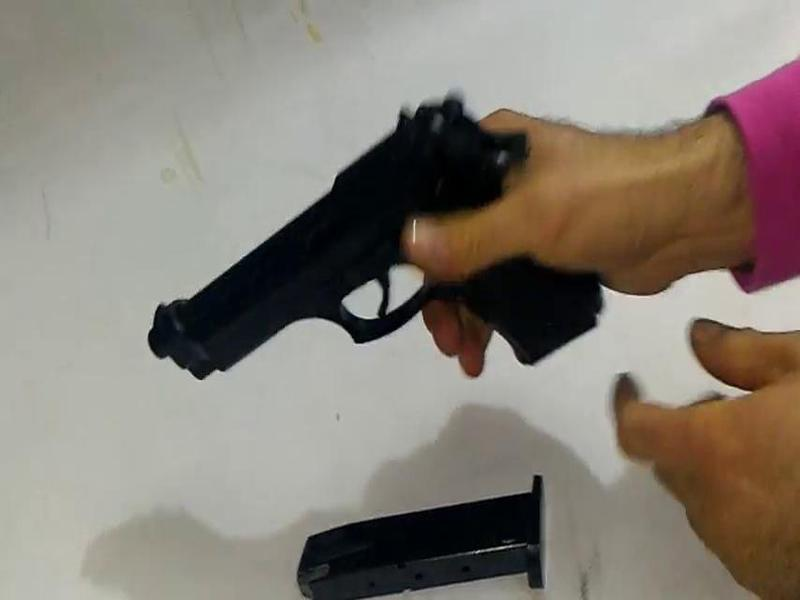Pistola: (116, 64, 689, 434)
